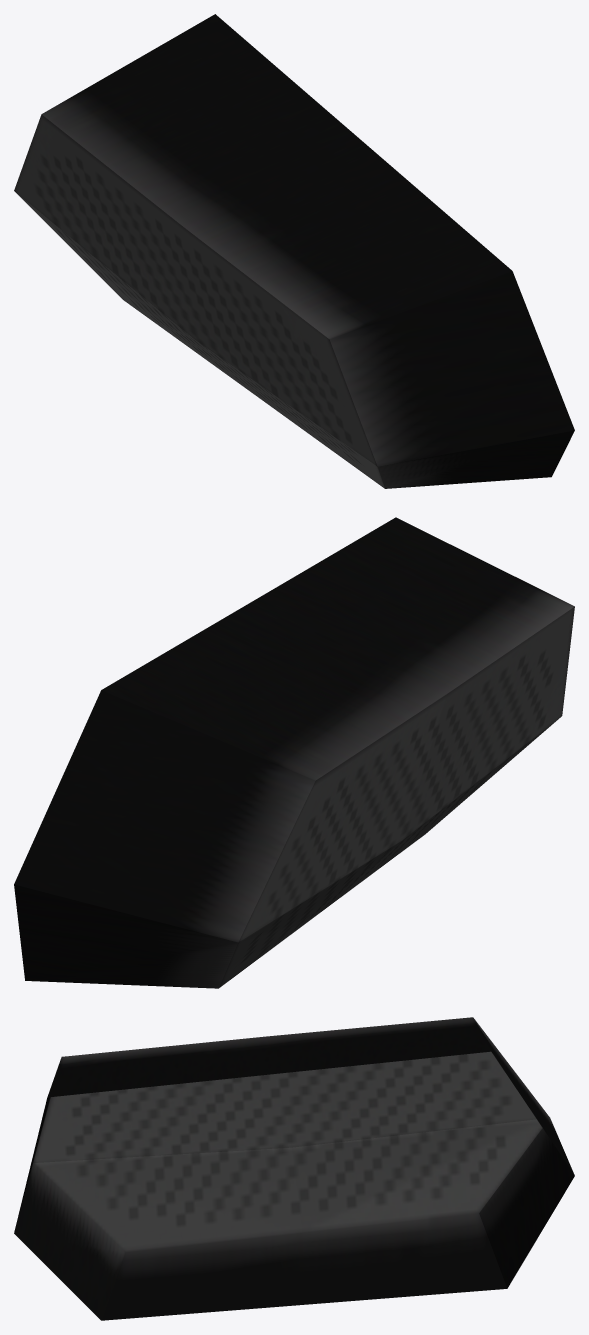
File: l_grip.obj
3 renders of one model, top to bottom at view 1: azimuth 30°, elevation 25°; view 2: azimuth 150°, elevation 25°; view 3: azimuth 270°, elevation 25°, orthographic. The views are drawn at different scales.
Visible parts, largest first — view 1: l_grip_l_grip_mesh; view 2: l_grip_l_grip_mesh; view 3: l_grip_l_grip_mesh.
Part boxes in pixels (box(x1,y1,x2,y2)): l_grip_l_grip_mesh: box(14, 14, 574, 488); l_grip_l_grip_mesh: box(14, 517, 574, 988); l_grip_l_grip_mesh: box(14, 1017, 574, 1320).
Size of the model in its own units: 0.0131 by 0.0139 by 0.0299.
Materials: 1 (1 with a texture image).
